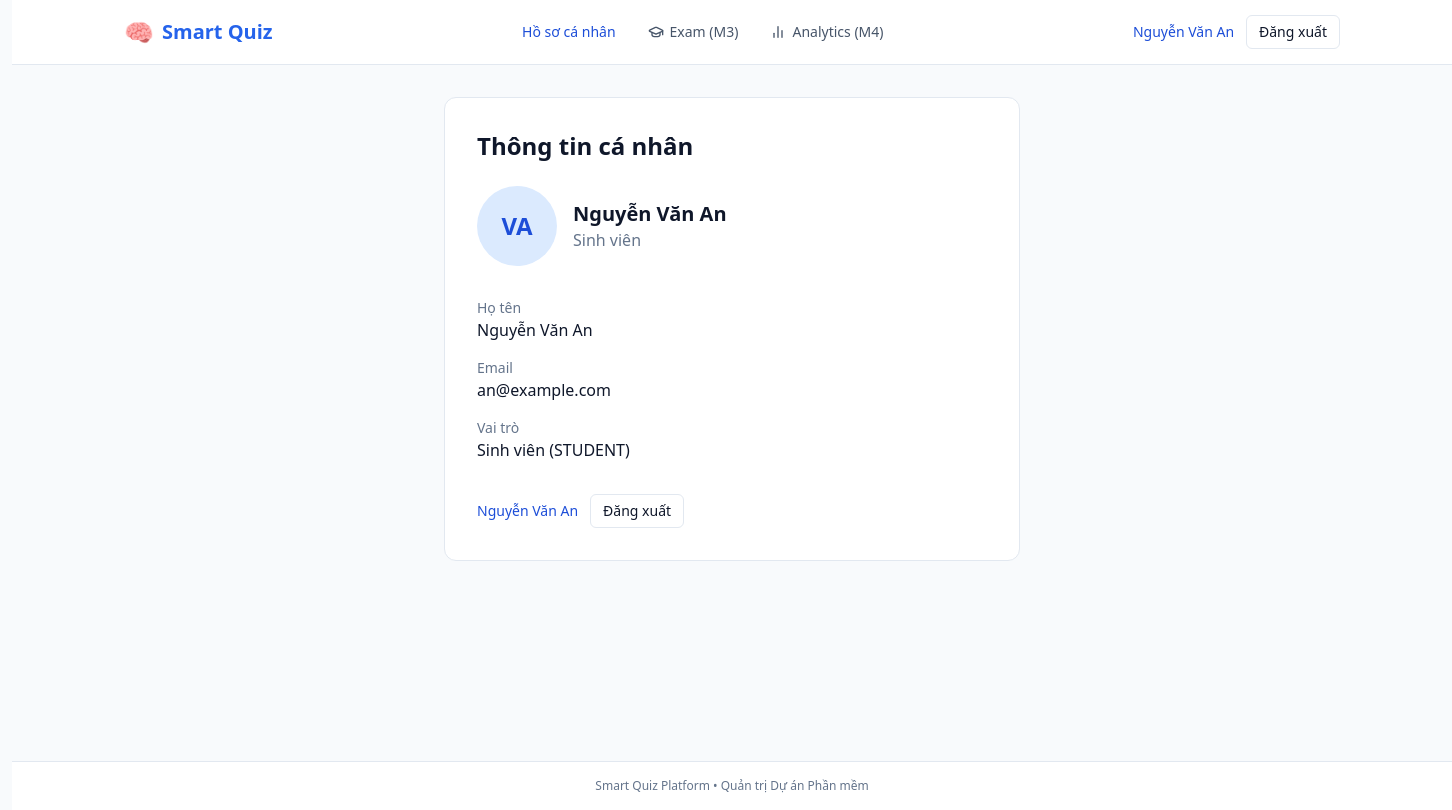
Test: profile and logout › keeps profile and shows an error if logout fails
Click the button "Đăng xuất" in the row of "Analytics (M4)": (1293, 32) [1246,15,1340,49]
(page scrolled)
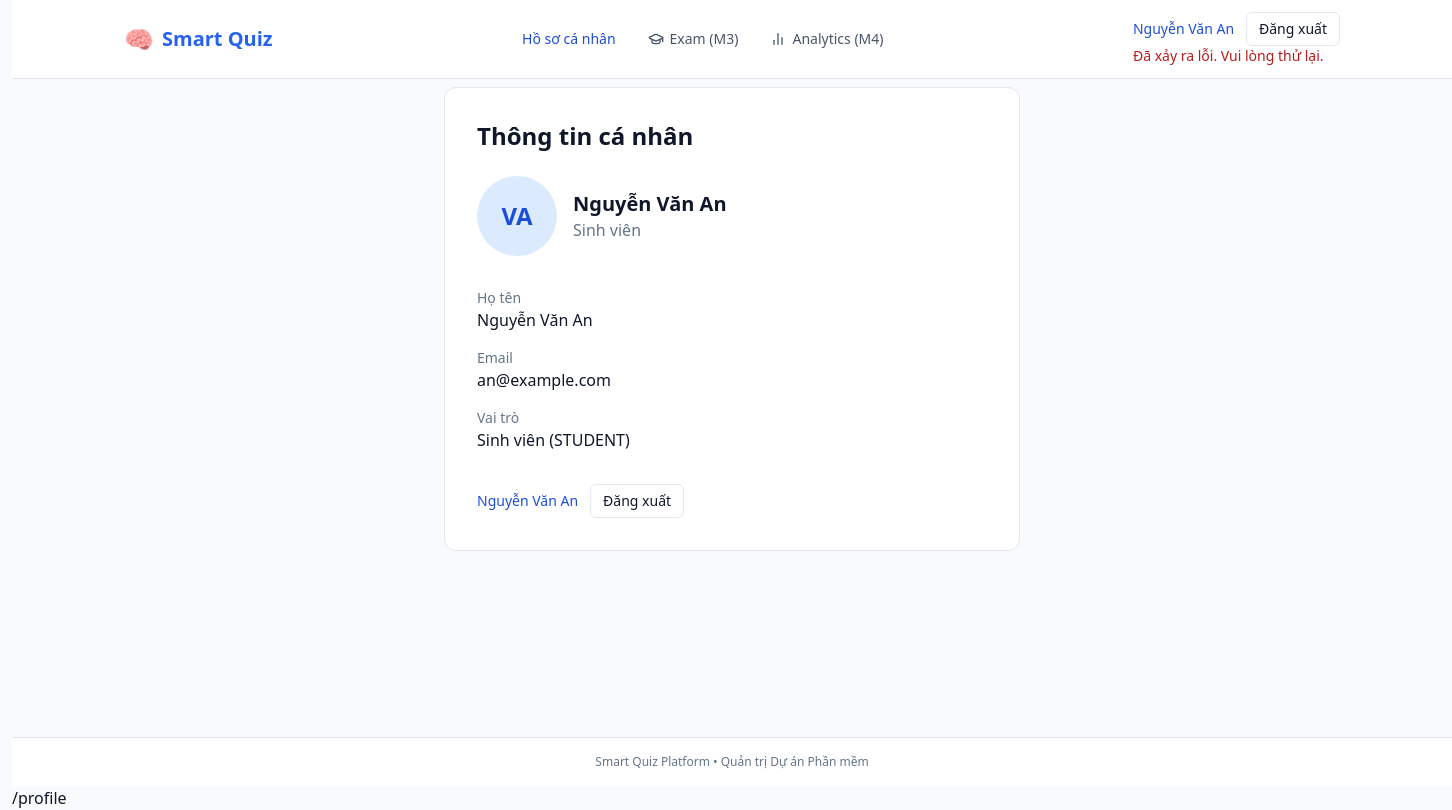
Expected: the text with test id "location" reads "/profile", [12,787,66,809]
Now the message "Đã xảy ra lỗi. Vui lòng thử lại." is shown, box [1133,46,1340,66]
